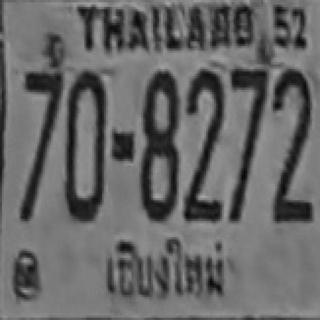N00: (63, 69, 106, 216)
N02: (271, 107, 312, 220), (272, 68, 311, 183), (182, 112, 221, 220), (187, 69, 224, 177)
N07: (23, 70, 62, 167), (230, 67, 267, 145)
N08: (139, 70, 179, 218)
P11: (101, 233, 233, 304)
